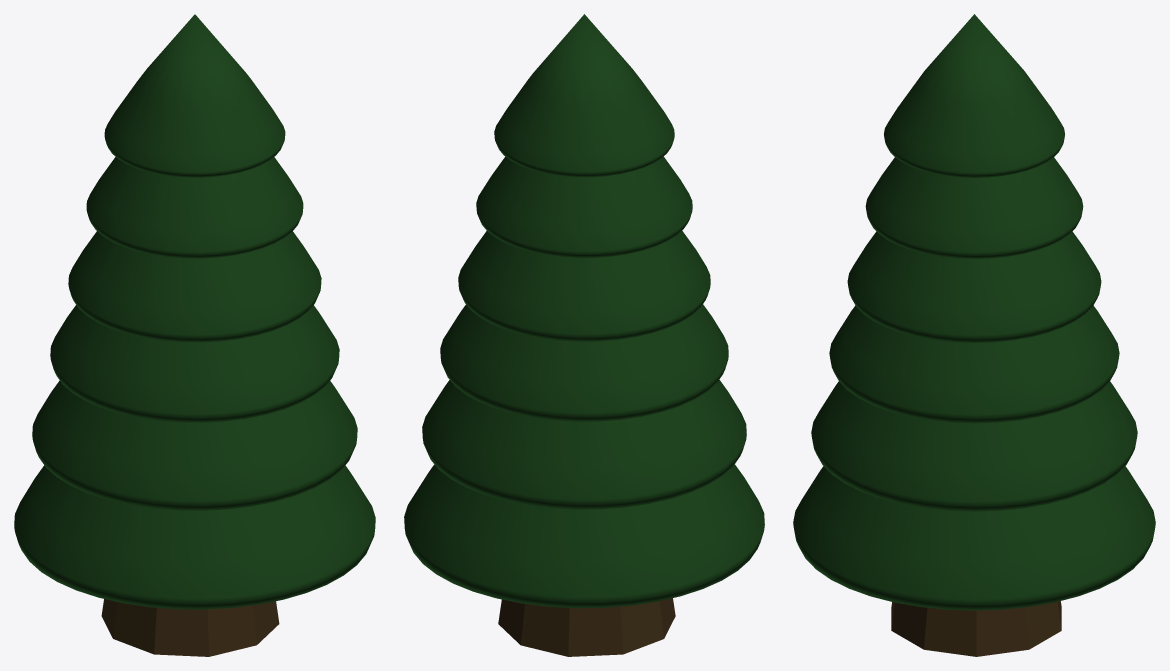
Rendered from tree2_big.fbx.
The picture shows the model from 3 angles, left to right: view 1: azimuth 30°, elevation 25°; view 2: azimuth 150°, elevation 25°; view 3: azimuth 270°, elevation 25°; orthographic projection.
Parts seen in each view (by area): view 1: pCone8; view 2: pCone8; view 3: pCone8.
Boxes of the visible parts, x1,y1,x2,y2 form: pCone8: (14, 14, 375, 656); pCone8: (404, 14, 764, 656); pCone8: (793, 14, 1155, 656).
Size of the model in its own units: 2632 by 4859 by 2632.
Materials: 1 (1 with a texture image).
